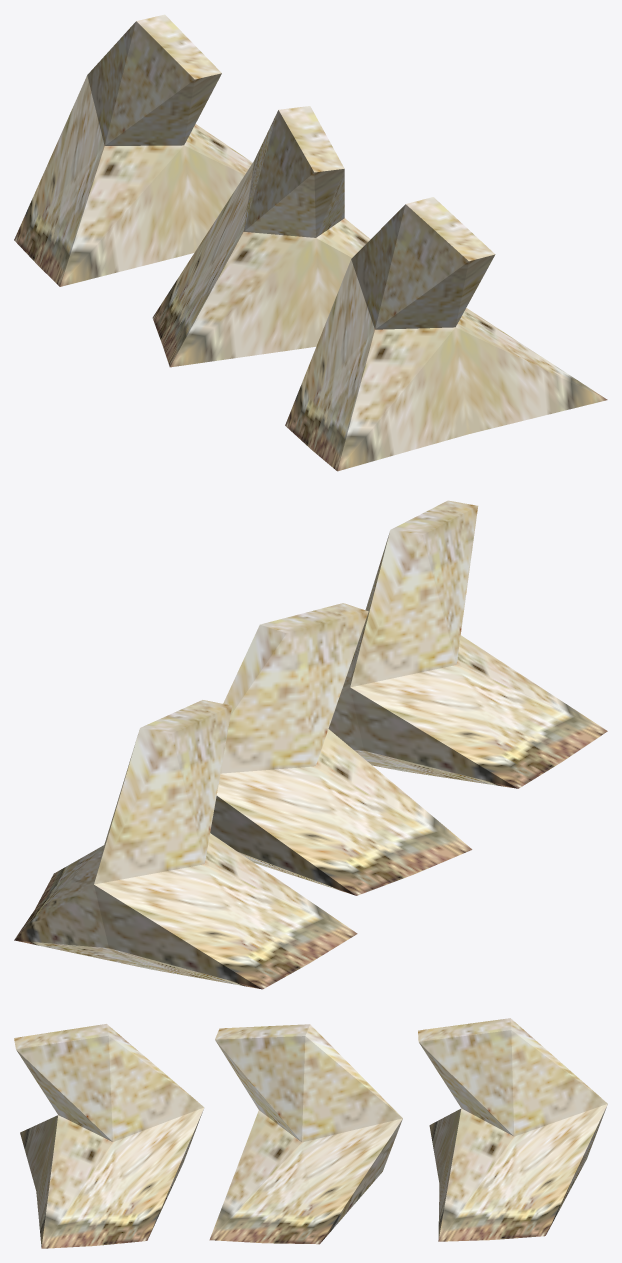
The model's file is poi_tato_skel_grtr_krayt_spine_s02_l0.fbx.
3 views of the same model, one above another, from view 1: azimuth 30°, elevation 25°; view 2: azimuth 150°, elevation 25°; view 3: azimuth 270°, elevation 25° (orthographic). The views are drawn at different scales.
Visible parts, largest first — view 1: mesh_node; view 2: mesh_node; view 3: mesh_node.
Boxes of the visible parts, <box> form: mesh_node: <box>14,14,607,471</box>; mesh_node: <box>14,500,607,989</box>; mesh_node: <box>14,1018,607,1248</box>.
Size of the model in its own units: 1.91 by 1.34 by 4.08.
Materials: 1 (1 with a texture image).
